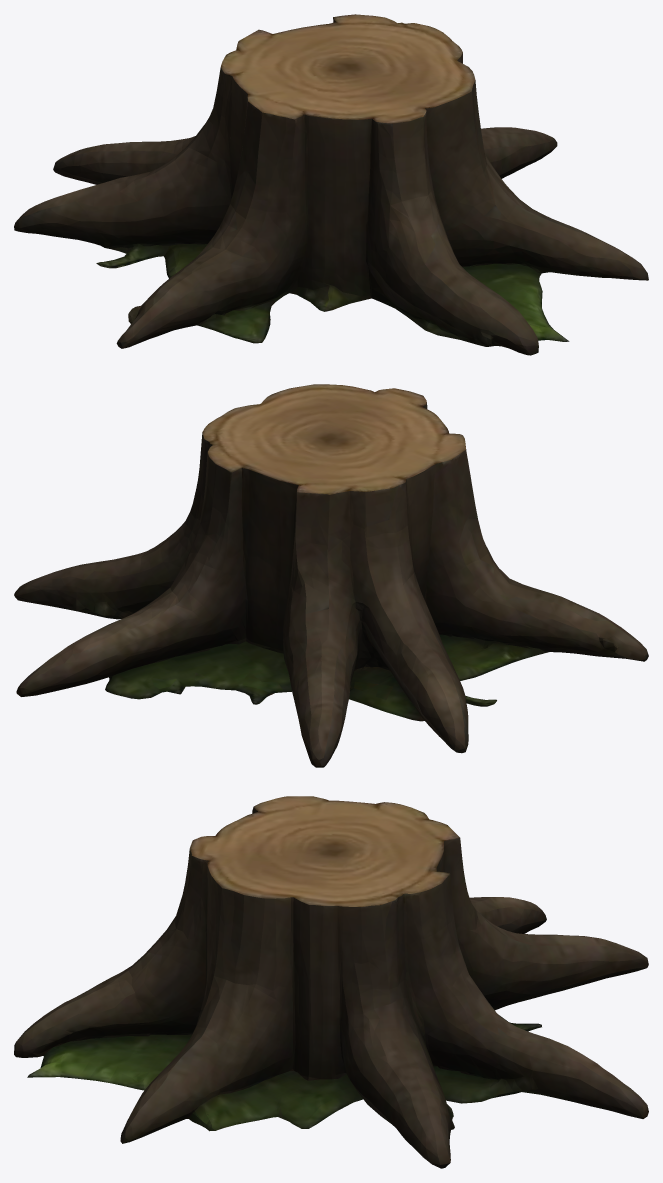
File: stump.glb
3 views of the same model, one above another, from view 1: azimuth 30°, elevation 25°; view 2: azimuth 150°, elevation 25°; view 3: azimuth 270°, elevation 25° (orthographic). The views are drawn at different scales.
Visible parts, largest first — view 1: world; view 2: world; view 3: world.
Boxes of the visible parts, <box> form: world: <box>14,14,648,355</box>; world: <box>14,384,648,767</box>; world: <box>14,796,648,1168</box>.
Size of the model in its own units: 0.9993 by 0.3353 by 1.
Materials: 1 (1 with a texture image).
